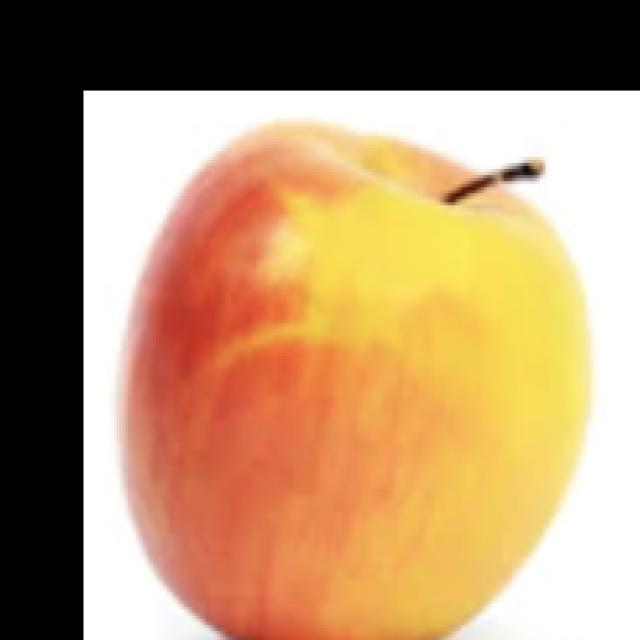Fresh Apple: (121, 114, 595, 640)
